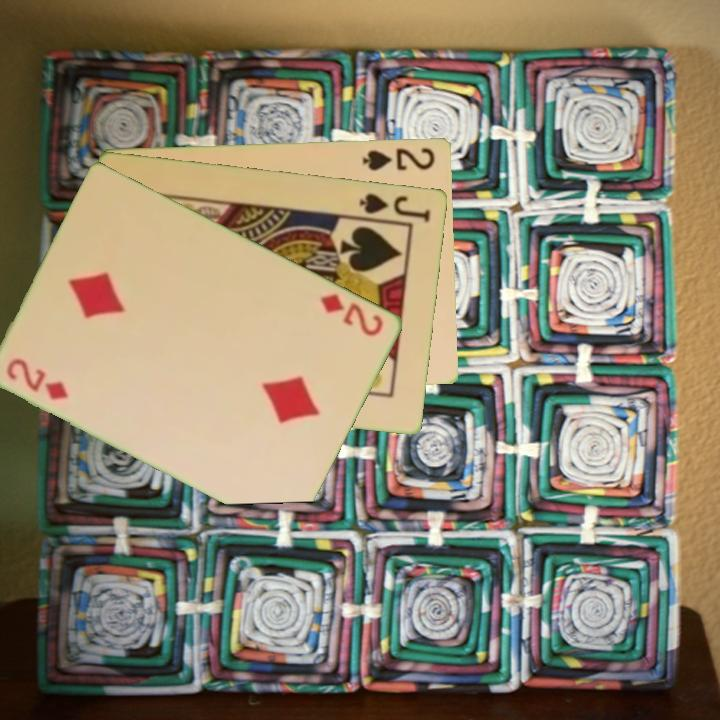2d: (317, 289, 387, 339), (3, 354, 72, 403)
2s: (359, 144, 438, 173)
Js: (356, 190, 434, 226)
